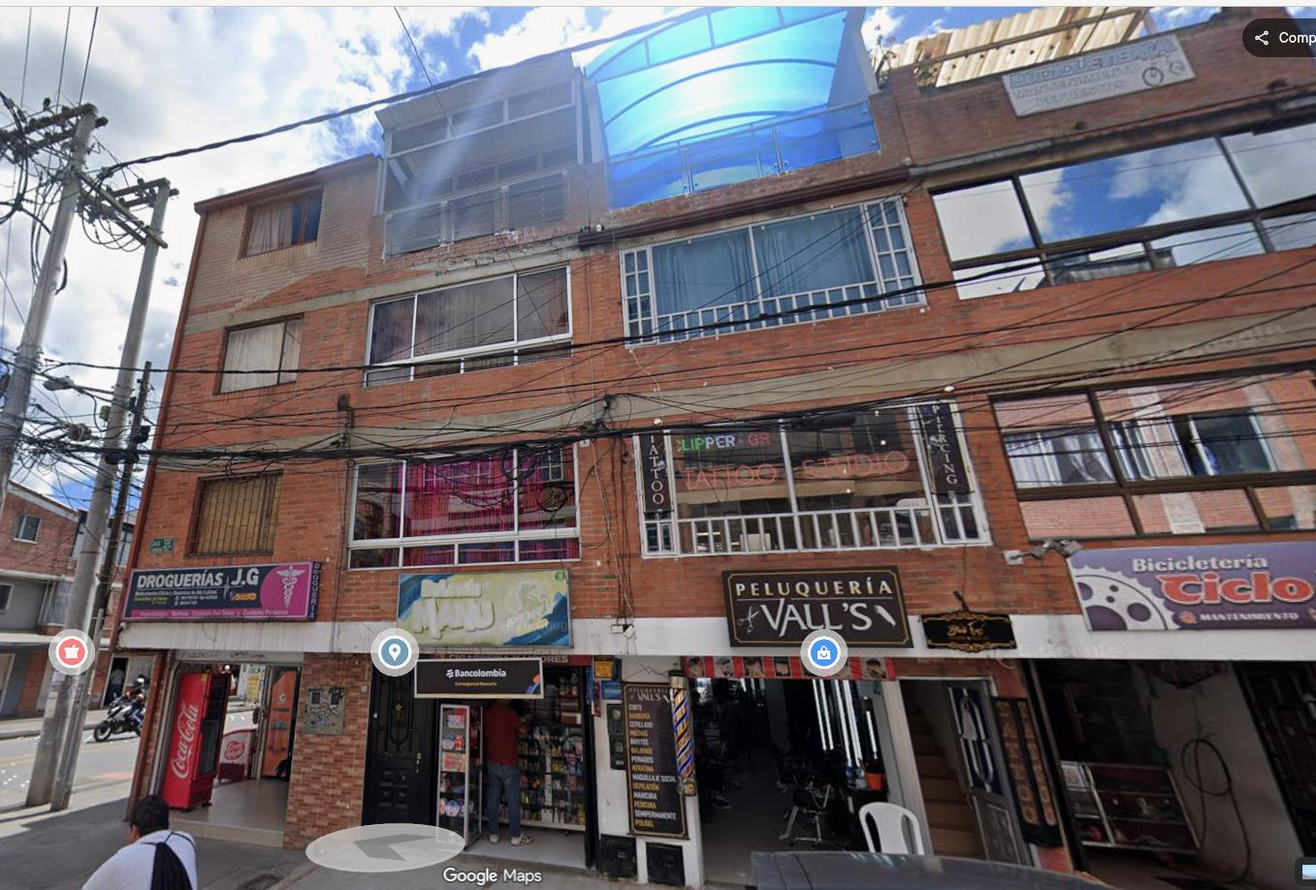casa: (120, 8, 1067, 883), (891, 9, 1315, 886)
poste: (65, 179, 171, 644), (0, 105, 105, 513), (27, 661, 93, 811)
